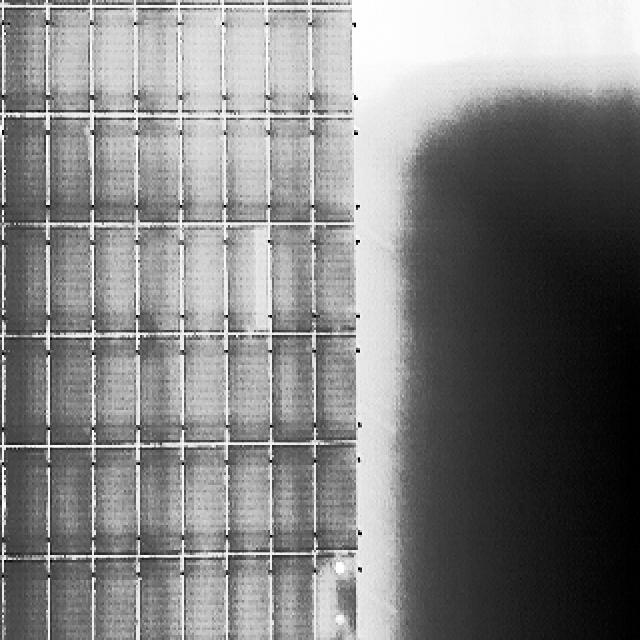Hotspots: (332, 560, 350, 574), (334, 610, 346, 624), (0, 452, 4, 468), (0, 122, 2, 138)
PV-modules: (220, 221, 268, 332), (222, 446, 270, 556), (1, 226, 48, 336), (5, 448, 52, 558), (185, 333, 231, 444), (224, 333, 270, 444), (7, 334, 53, 445), (183, 121, 230, 229), (92, 10, 138, 120), (0, 120, 47, 227), (270, 445, 316, 554), (265, 10, 310, 121), (137, 339, 183, 447), (136, 226, 182, 334), (94, 447, 140, 555), (224, 10, 269, 120), (269, 225, 314, 335), (138, 446, 183, 556), (46, 10, 91, 119), (180, 10, 225, 119), (267, 116, 312, 224), (136, 120, 181, 228), (221, 120, 266, 228), (48, 340, 93, 448), (183, 222, 227, 332), (315, 226, 359, 336), (317, 443, 361, 553), (135, 9, 180, 116), (94, 336, 139, 443), (1, 8, 46, 115), (48, 226, 92, 335), (314, 119, 358, 227), (94, 227, 138, 335), (49, 447, 93, 555), (94, 117, 138, 224), (48, 120, 92, 227), (183, 446, 226, 555), (313, 12, 356, 121), (270, 338, 313, 446), (318, 333, 360, 442), (224, 559, 270, 640), (269, 558, 314, 640), (136, 560, 181, 640), (90, 561, 135, 640), (8, 563, 54, 640), (317, 558, 359, 640), (49, 562, 93, 640), (186, 560, 228, 640), (0, 445, 4, 555), (0, 225, 4, 335), (310, 0, 354, 10), (0, 117, 4, 225), (0, 5, 4, 113), (132, 0, 178, 5), (90, 0, 136, 5), (4, 0, 50, 5), (178, 0, 224, 5), (264, 0, 308, 5), (46, 0, 90, 5), (224, 0, 266, 5), (0, 0, 4, 2)
